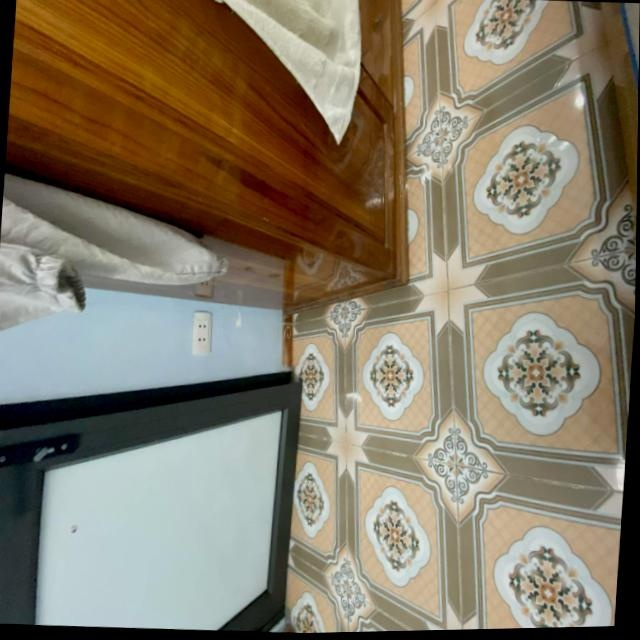outlet: (191, 310, 213, 355)
